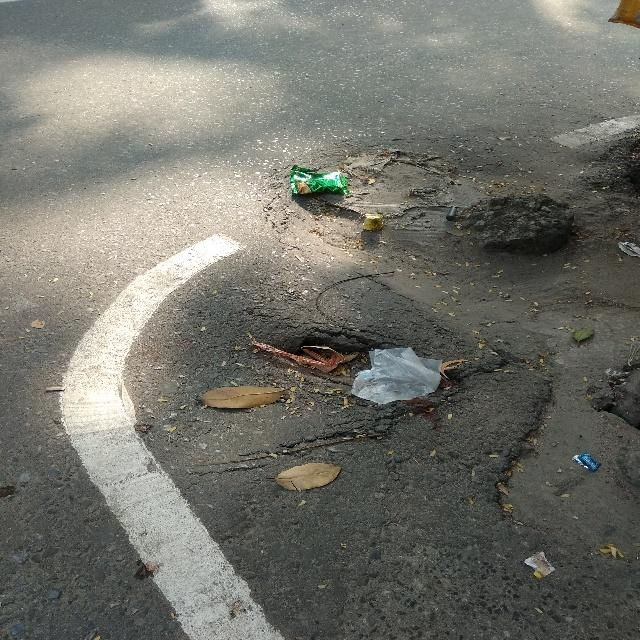Surface Erosion: (155, 46, 640, 593)
